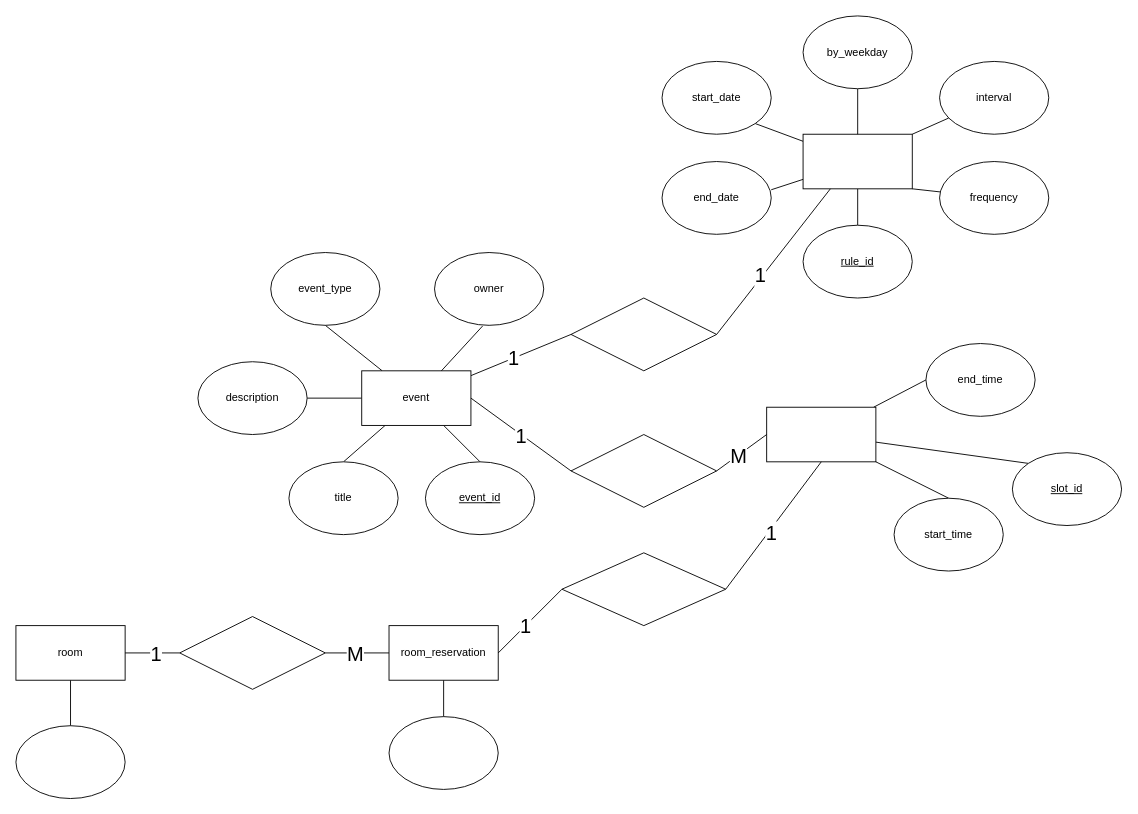
This 1138x814 diagram has some shape labels left out. The shapes that lost their labels are listed below. From the top down, each one's centre as x and y in pixels, then its label:
the point at 857,161: recurrence_rule
the point at 643,334: HasRule
the point at 821,434: event_time_slot
the point at 643,470: Occurs During
the point at 643,589: Reserves
the point at 252,652: LocatedIn
the point at 70,762: room_no
the point at 443,752: reservation_id
